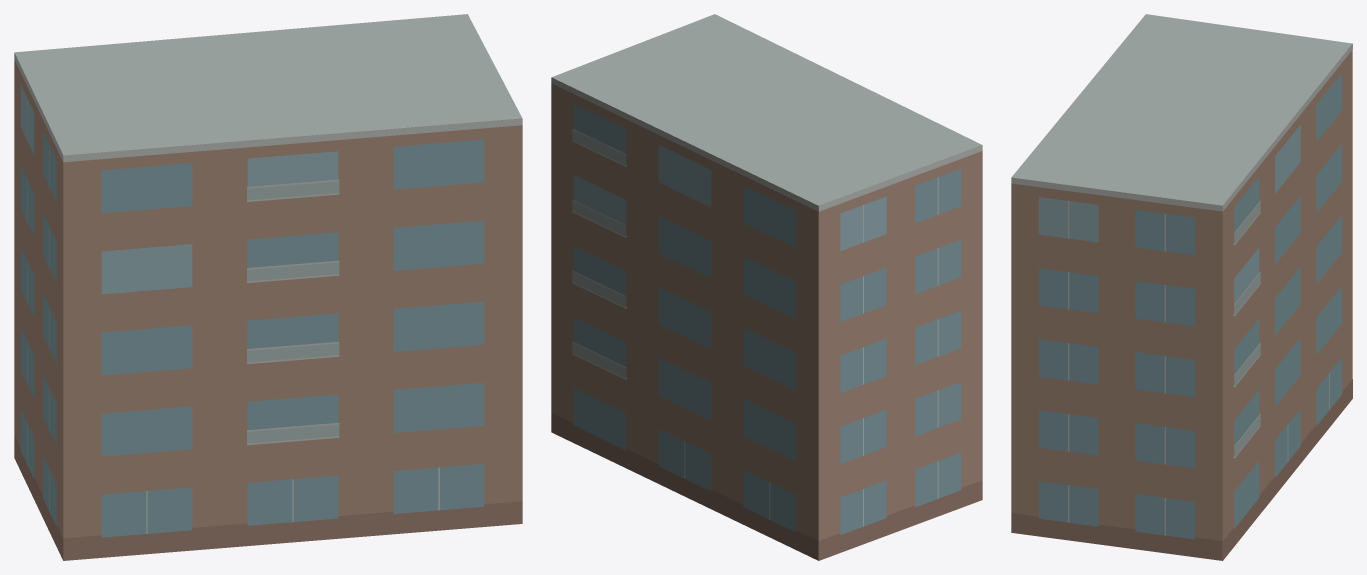
The model's file is survey-upis-32877466.glb.
3 renders of one model, left to right at view 1: azimuth 30°, elevation 25°; view 2: azimuth 150°, elevation 25°; view 3: azimuth 270°, elevation 25°, orthographic. The views are drawn at different scales.
Parts seen in each view (by area): view 1: survey-upis-32877466.tmp; view 2: survey-upis-32877466.tmp; view 3: survey-upis-32877466.tmp.
Boxes of the visible parts, x1,y1,x2,y2 form: survey-upis-32877466.tmp: [14, 14, 522, 560]; survey-upis-32877466.tmp: [551, 14, 982, 560]; survey-upis-32877466.tmp: [1011, 14, 1352, 560].
Size of the model in its own units: 16.91 by 14.6 by 12.73.
